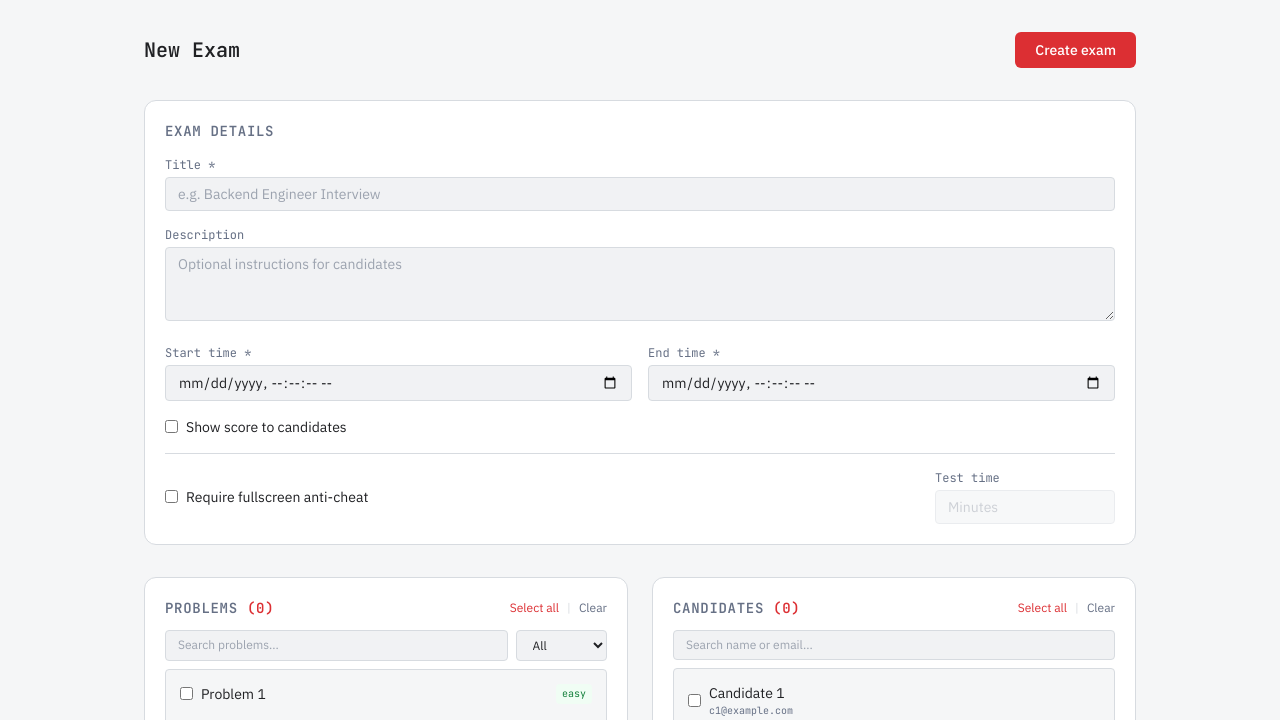
ExamManagePage - Filtering and Bulk Actions › filters problems by text and difficulty
Expected: the text "Problem 1" is shown, [201,685,266,703]
# Search by text
Type "Hard" into the field with placeholder "Search problems..." at (336, 645), box [165,630,508,661]
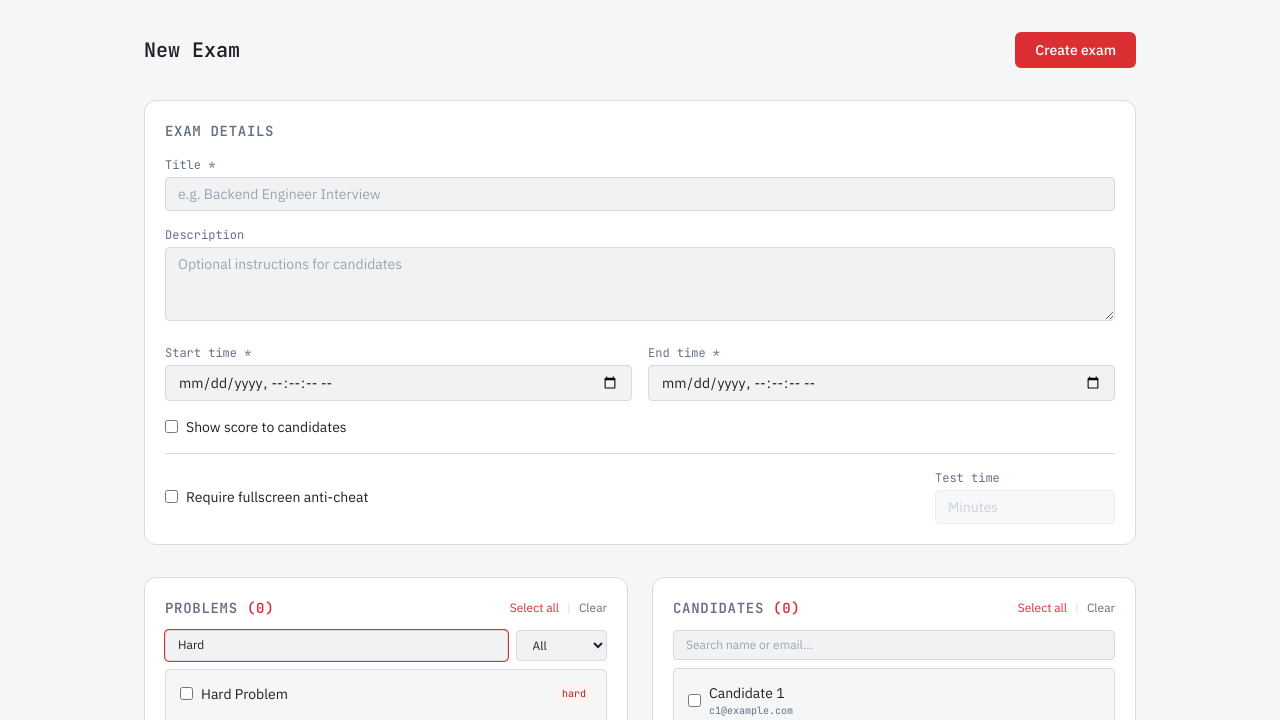
Expected: the text "Hard Problem" is shown, [201,685,288,703]
Result: the text "Problem 1" is gone
# Clear search and filter by difficulty
Clear the field with placeholder "Search problems..." at (336, 645), box [165,630,508,661]
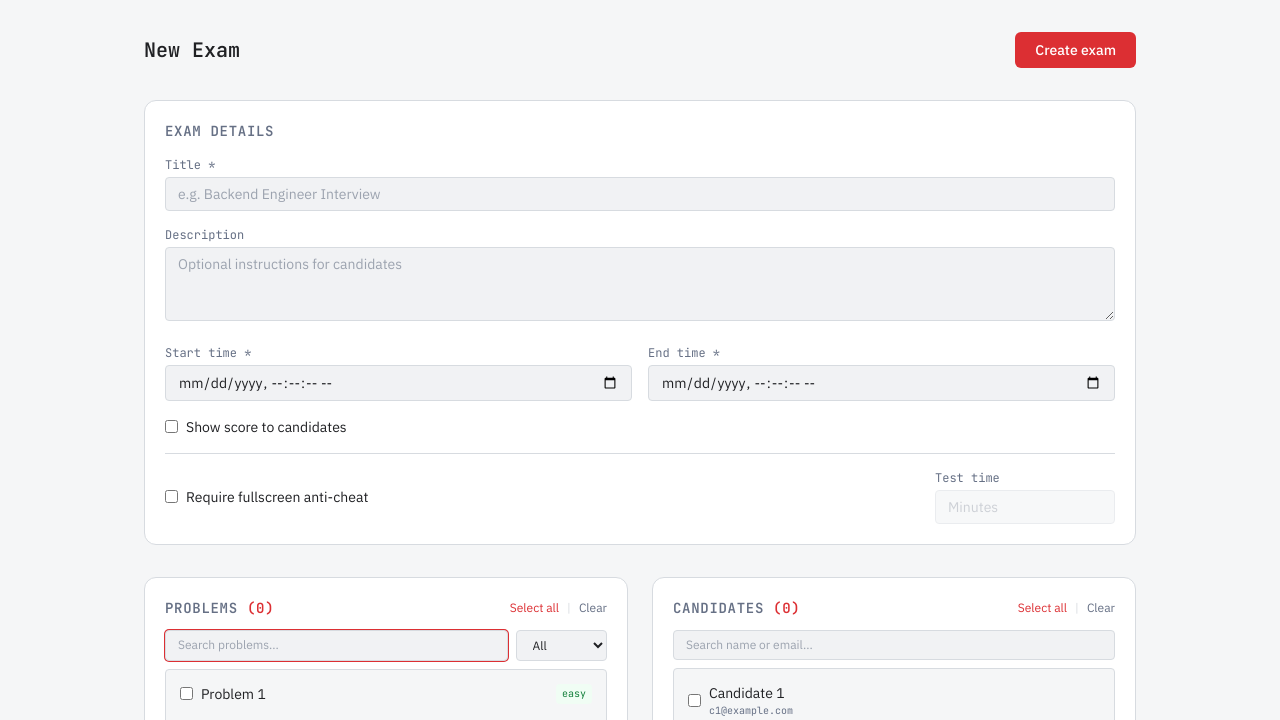
Select "Easy" in the dropdown at (561, 645), box [516,630,607,661]
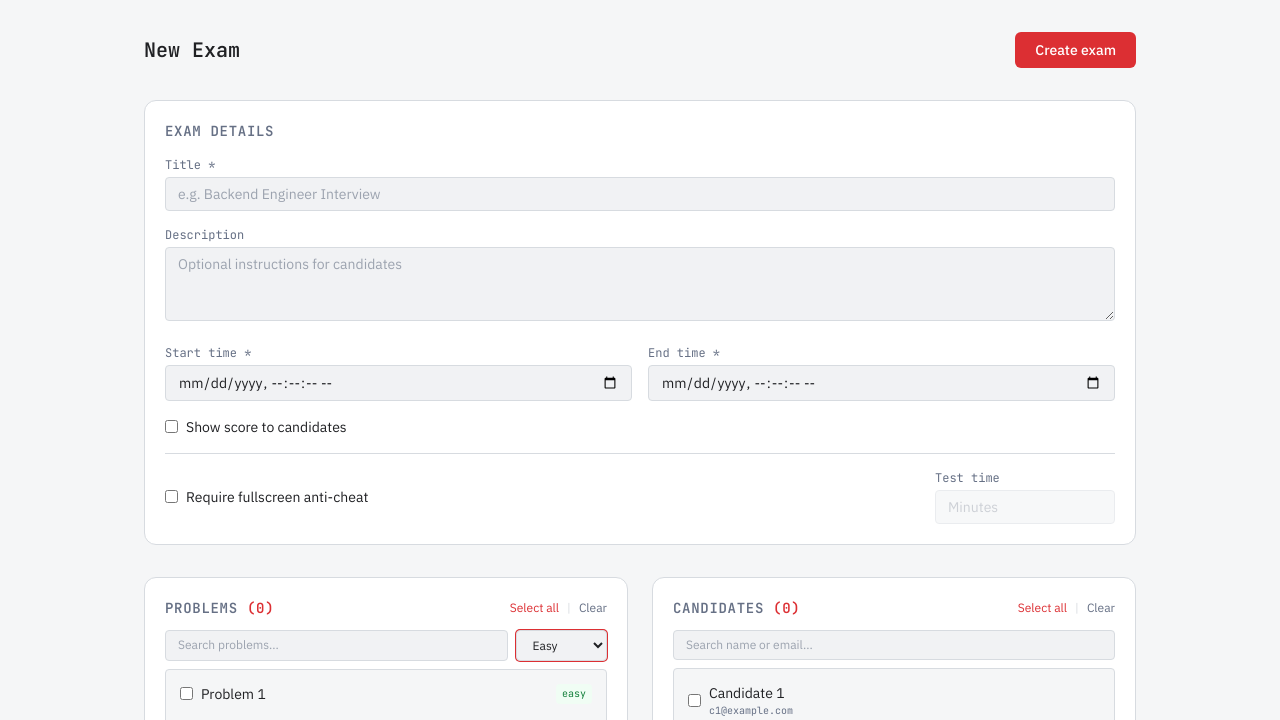
Expected: the text "Hard Problem" is not shown
Result: the text "Problem 1" is shown at [201,685,266,703]
# Search for non-existent
Type "XYZ" into the field with placeholder "Search problems..." at (336, 645), box [165,630,508,661]
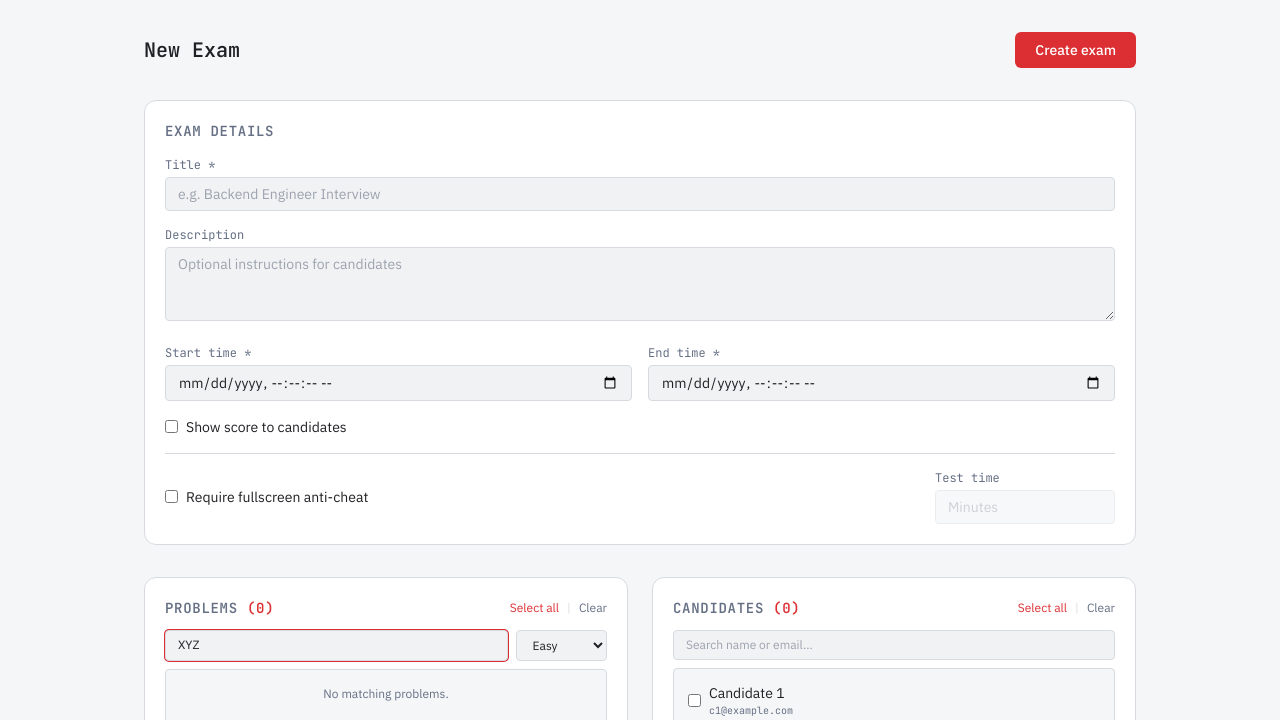
Result: the text "No matching problems." is shown at [323,686,449,701]
